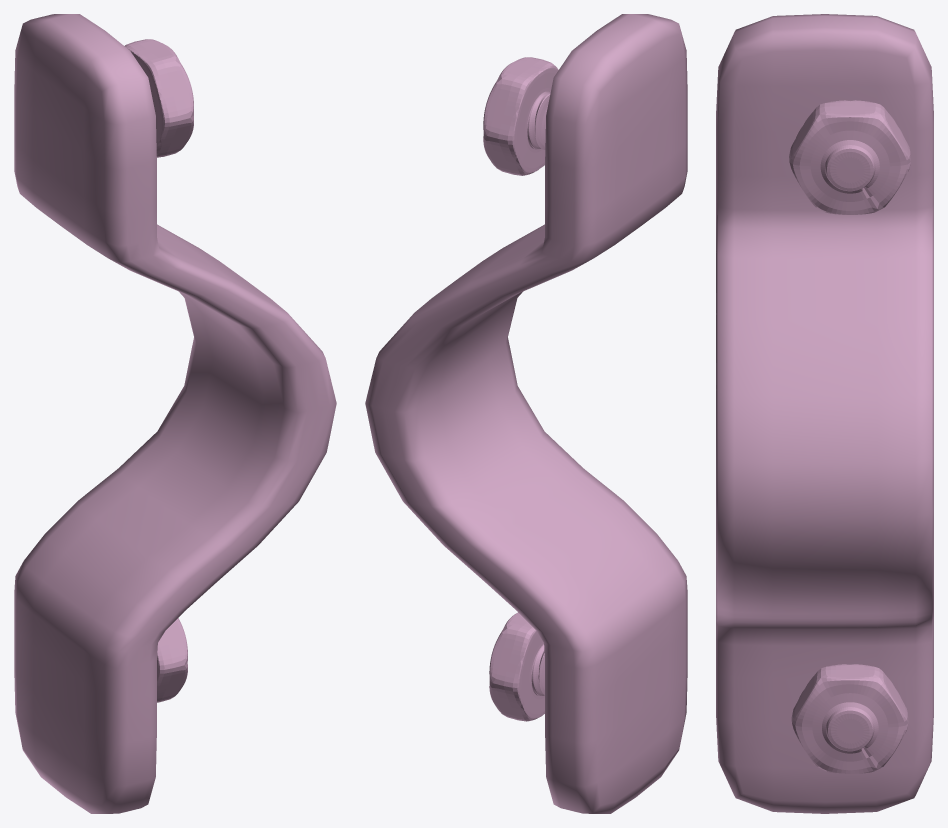
File: Bolt_004.obj
3 views of the same model, side by side, from view 1: azimuth 30°, elevation 25°; view 2: azimuth 150°, elevation 25°; view 3: azimuth 270°, elevation 25° (orthographic). The views are drawn at different scales.
Parts seen in each view (by area): view 1: Bolt.004; view 2: Bolt.004; view 3: Bolt.004.
Part boxes in pixels (x1,y1,x2,y2): Bolt.004: [14, 14, 336, 813]; Bolt.004: [365, 14, 687, 813]; Bolt.004: [716, 14, 933, 813].
Bounding box in the file's own units: 0.1115 × 0.3478 × 0.0876.
